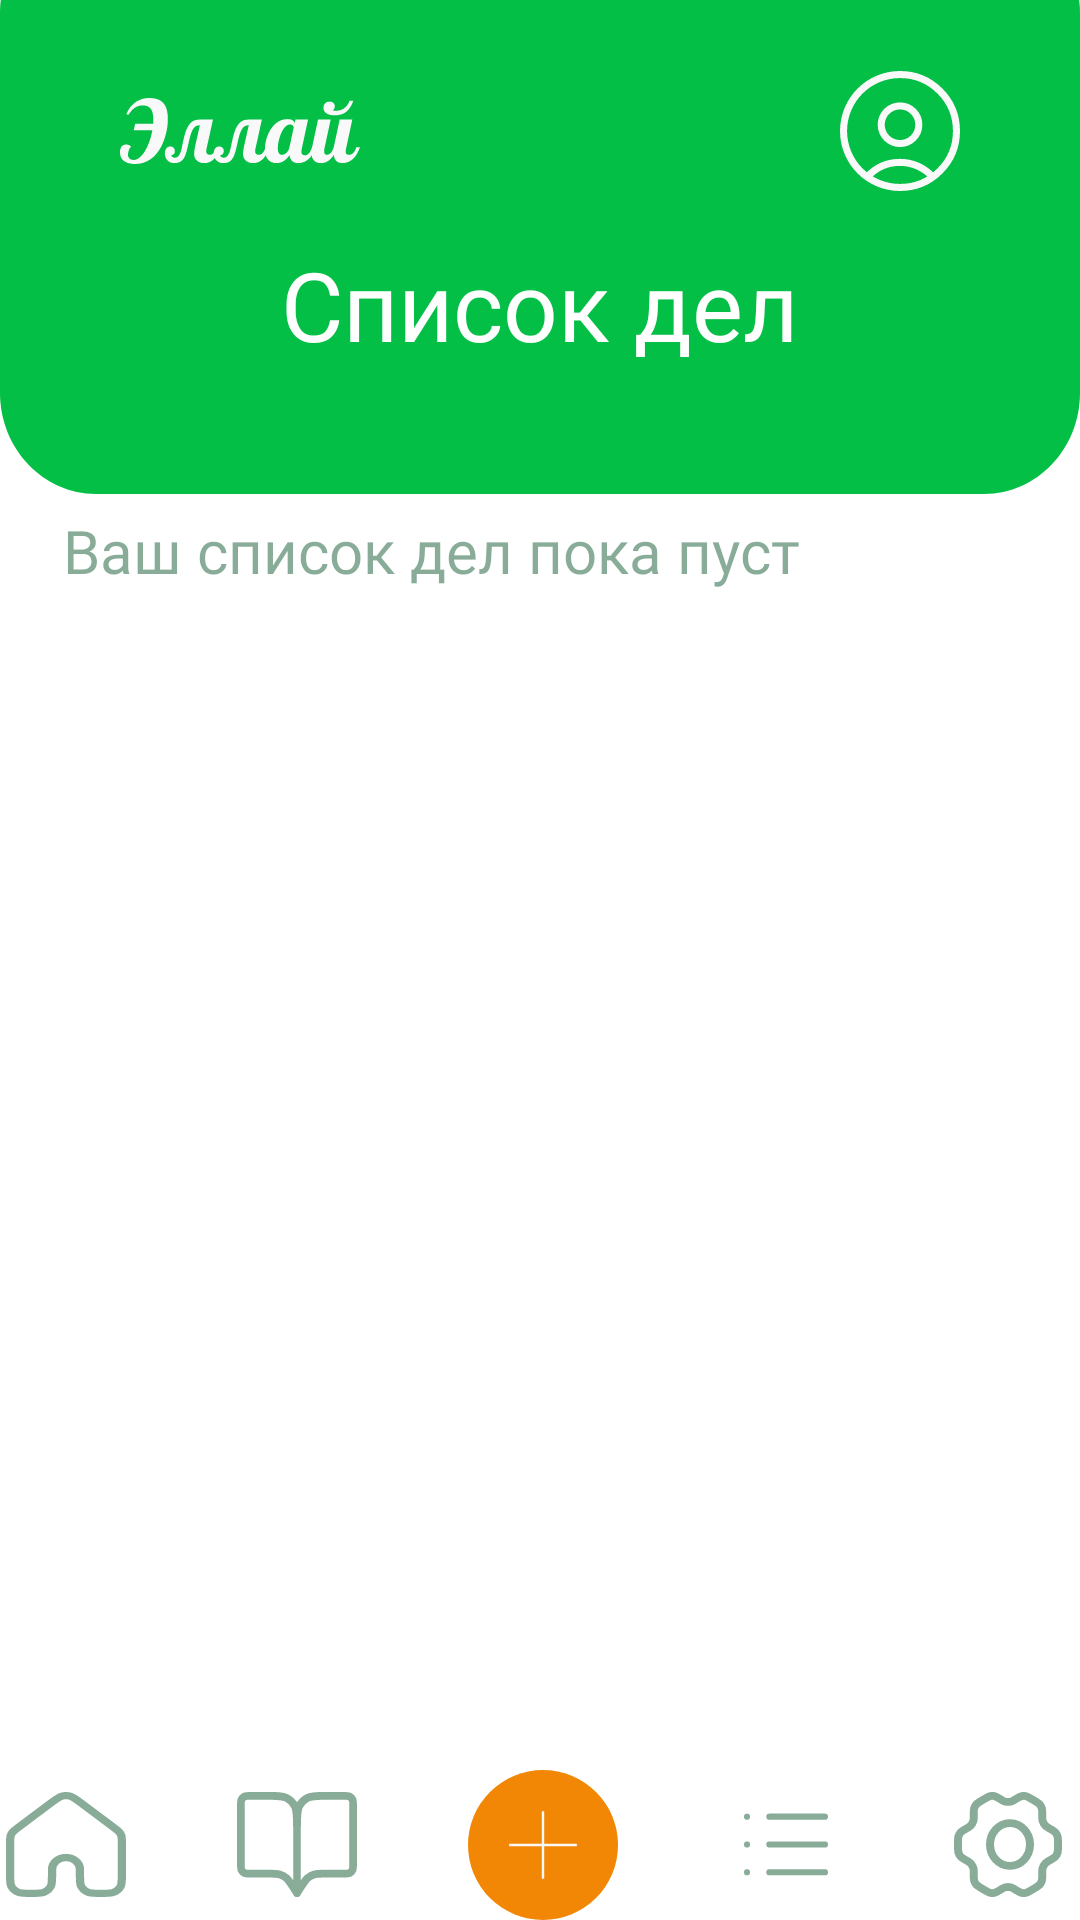

Screen size 1080w x 1920h. Icon name, then its center in pixels as [x,y]:
profile: [900,131]
